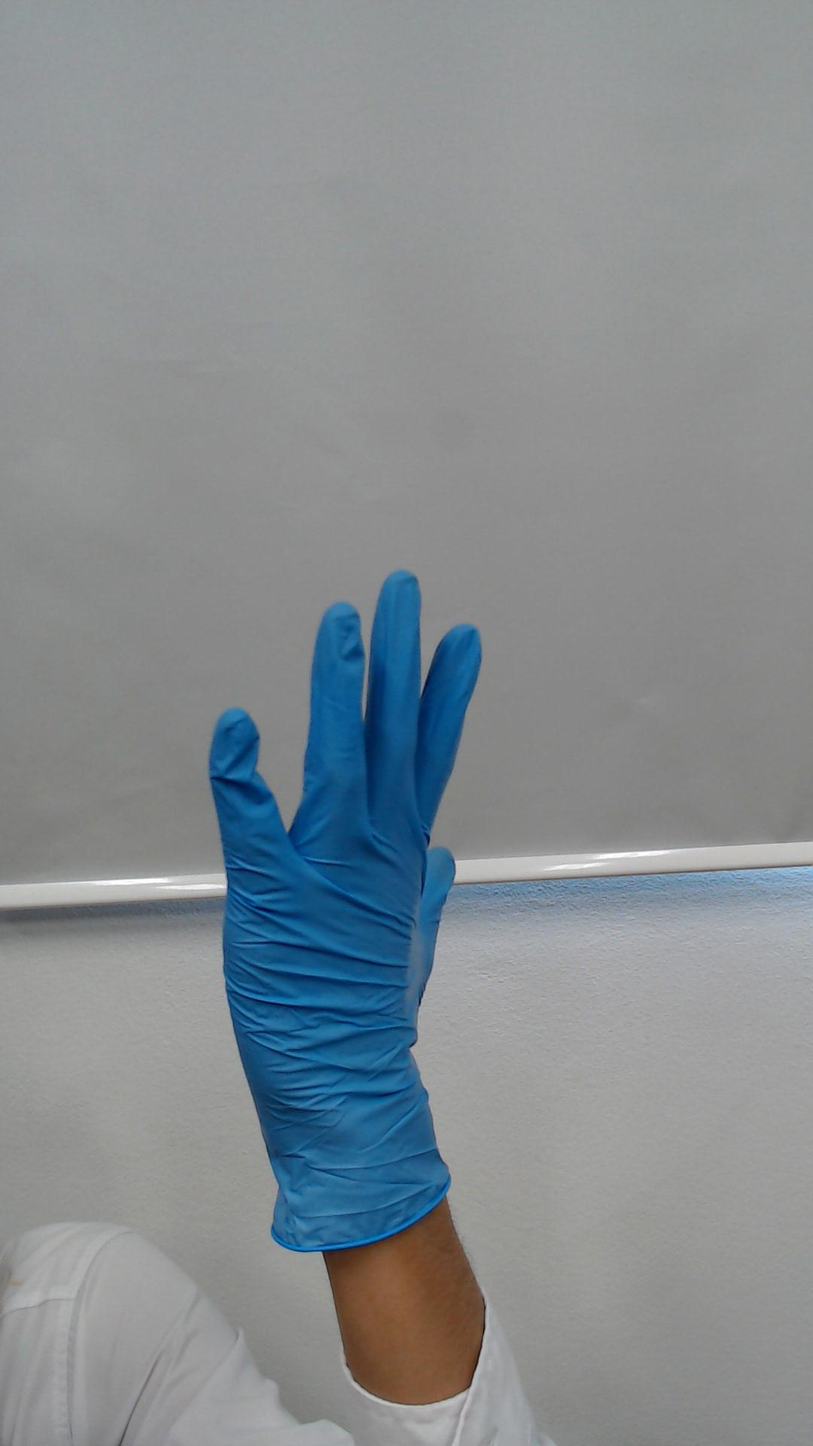gloves: (151, 548, 510, 1103)
